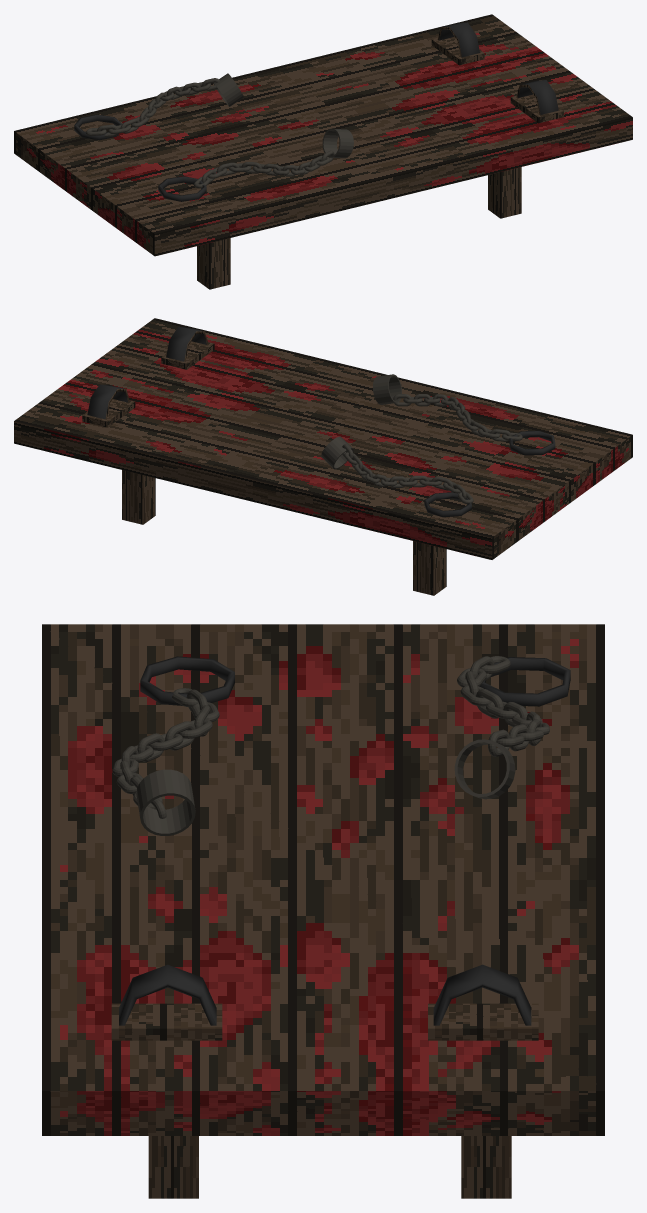
File: mesadetortura.glb
3 renders of one model, top to bottom at view 1: azimuth 30°, elevation 25°; view 2: azimuth 150°, elevation 25°; view 3: azimuth 270°, elevation 25°, orthographic. The views are drawn at different scales.
Parts seen in each view (by area): view 1: mesatortura3-col; view 2: mesatortura3-col; view 3: mesatortura3-col.
Part boxes in pixels (<box>): mesatortura3-col: <box>14,14,632,289</box>; mesatortura3-col: <box>14,318,632,595</box>; mesatortura3-col: <box>42,624,604,1198</box>.
Size of the model in its own units: 4.37 by 1.12 by 2.23.
Materials: 5 (2 with a texture image).
